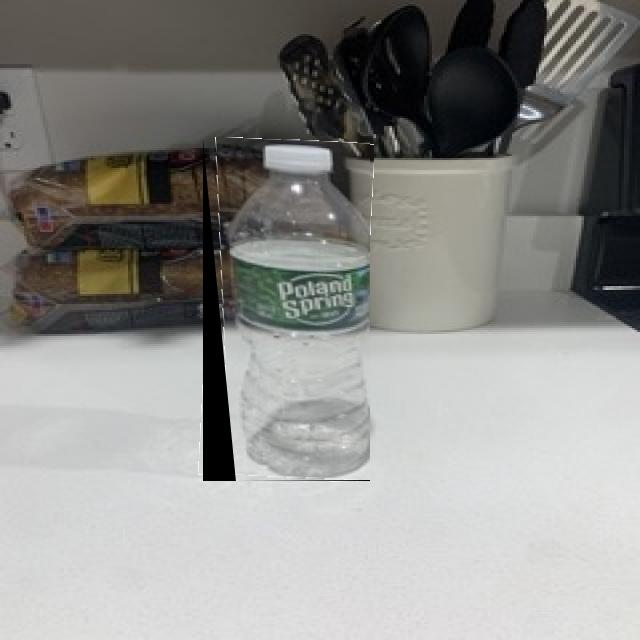water_bottle: (203, 139, 370, 481)
